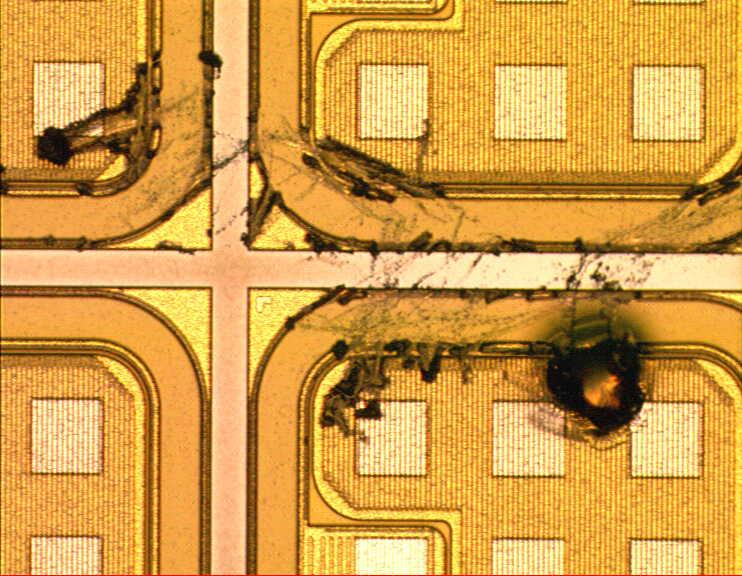SCRATCH: (1, 44, 742, 448)
